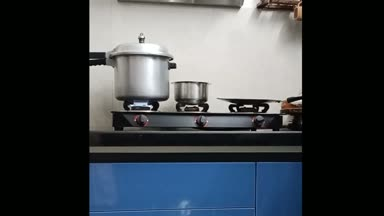flame_gas_off: (236, 104, 267, 127)
flame_gas_on: (124, 100, 157, 127)
noflame_gason: (178, 103, 209, 128)
